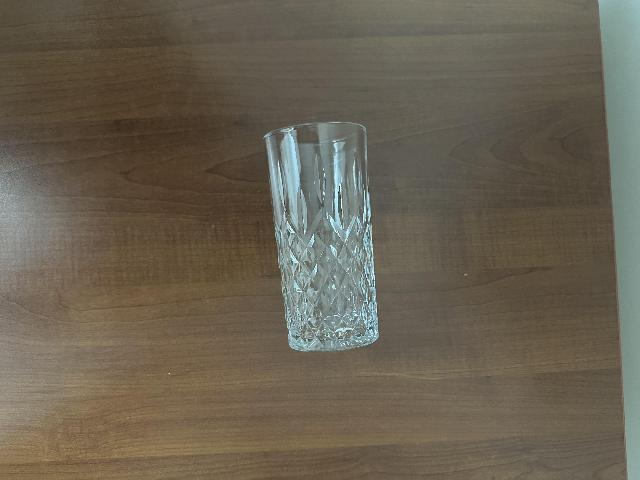Cam: (251, 117, 390, 354)
